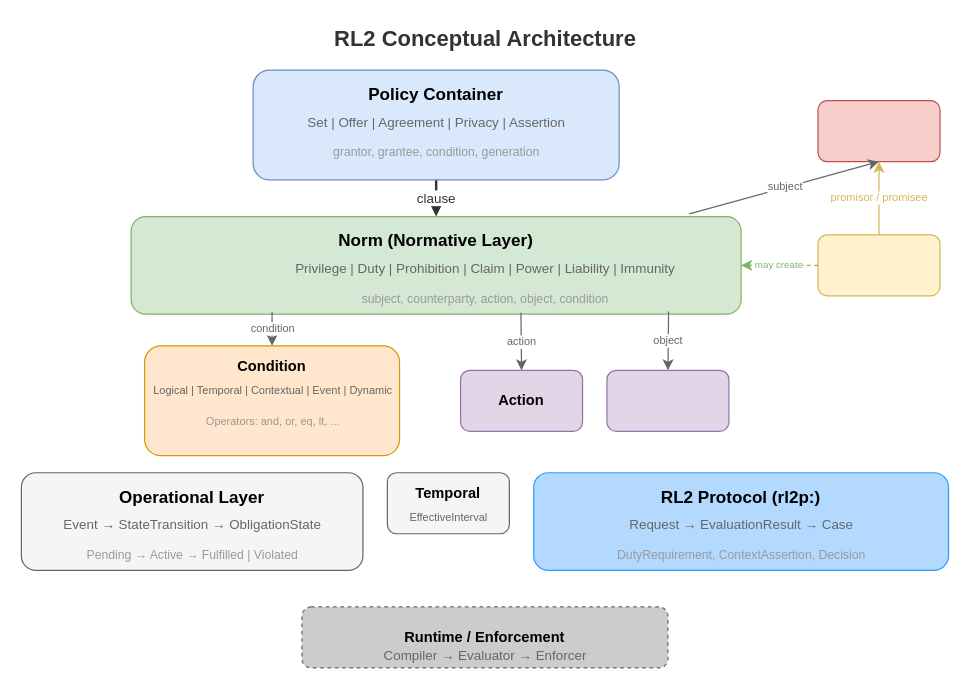
This 970x689 diagram has some shape labels left out. Each missing label, with the centre of its shape:
"Agent" belongs at [878,130].
"Asset" belongs at [667,400].
"Promise" belongs at [878,265].
